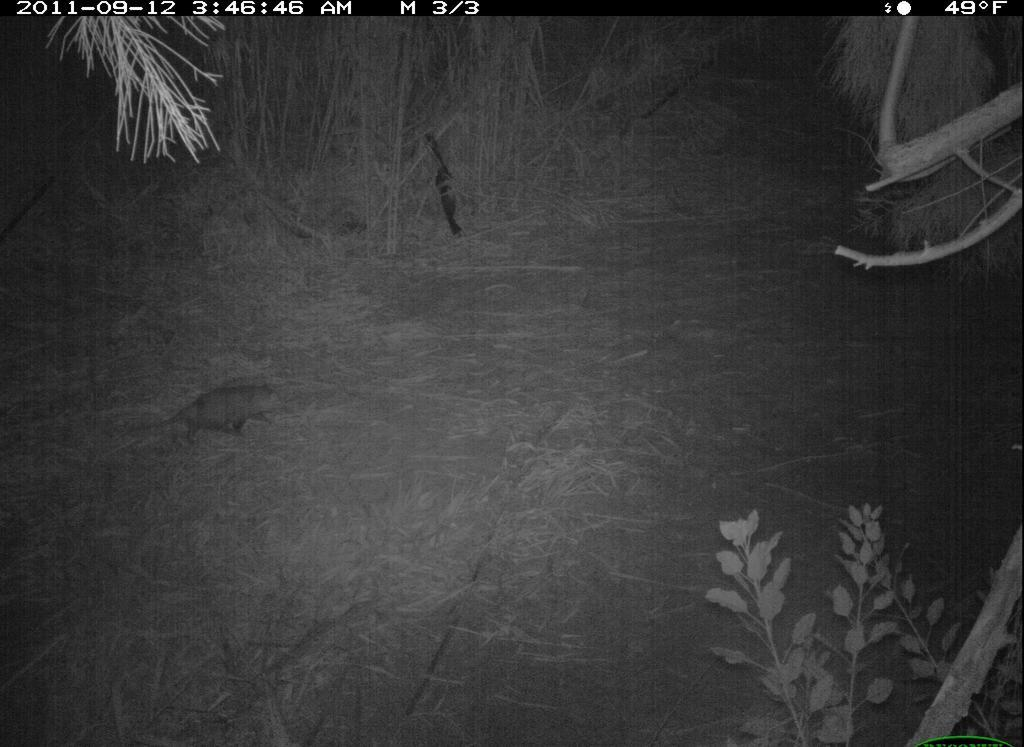opossum: (135, 372, 296, 459)
